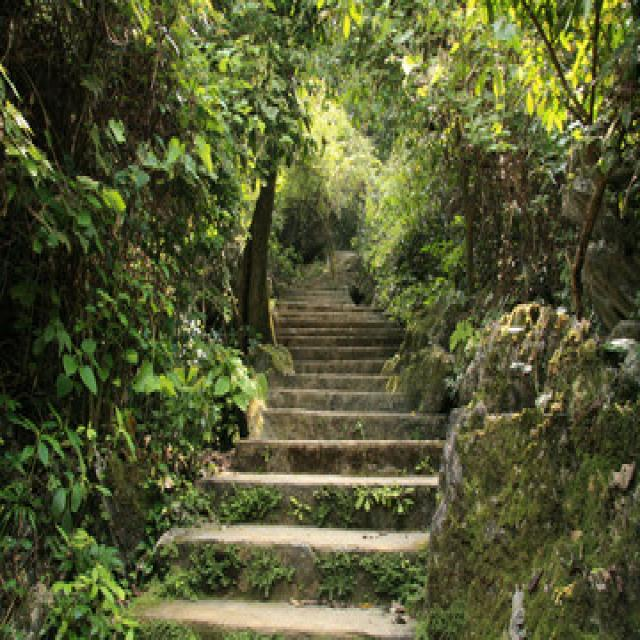stair: (141, 275, 444, 637)
